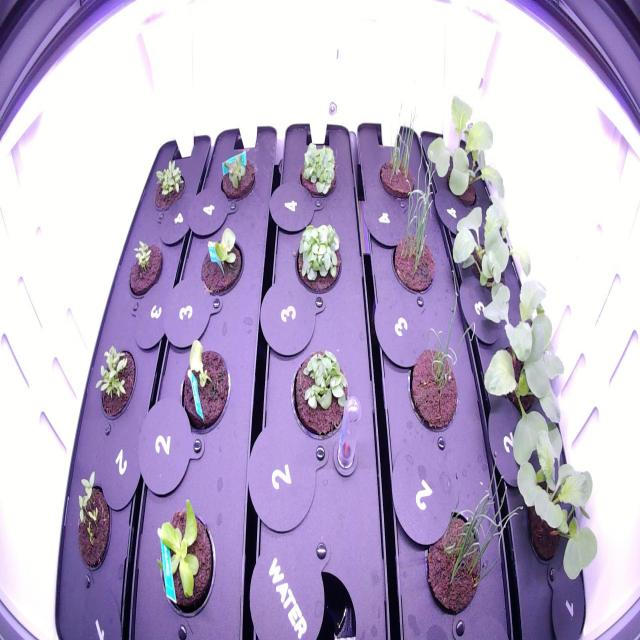germination: (287, 344, 356, 444), (68, 464, 120, 582), (90, 335, 142, 427), (122, 230, 166, 309), (149, 152, 189, 218)
young: (146, 485, 224, 623), (172, 333, 236, 444), (193, 219, 247, 304), (213, 148, 260, 210)
